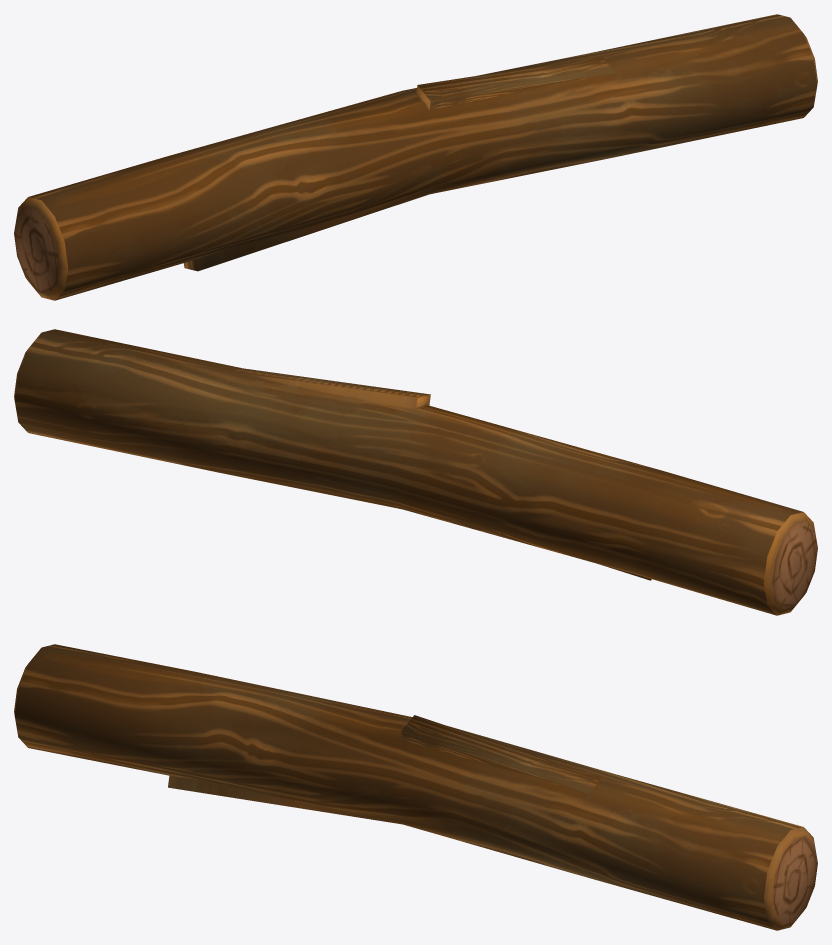
3 views of the same model, one above another, from view 1: azimuth 30°, elevation 25°; view 2: azimuth 150°, elevation 25°; view 3: azimuth 330°, elevation 25° (orthographic).
Parts seen in each view (by area): view 1: Cylinder.085; view 2: Cylinder.085; view 3: Cylinder.085.
Boxes of the visible parts, bbox=[...] form: Cylinder.085: bbox=[14, 14, 817, 300]; Cylinder.085: bbox=[14, 329, 817, 615]; Cylinder.085: bbox=[14, 644, 817, 930].
Size of the model in its own units: 331 by 52.7 by 40.58.
1 material, 1 textured.
